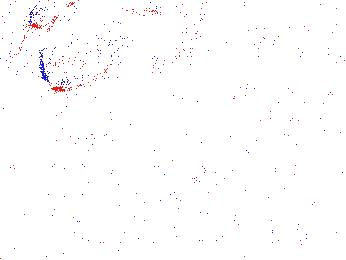moon jellyfish: (42, 1, 154, 91), (110, 1, 204, 70), (214, 95, 275, 186), (299, 77, 346, 156)
